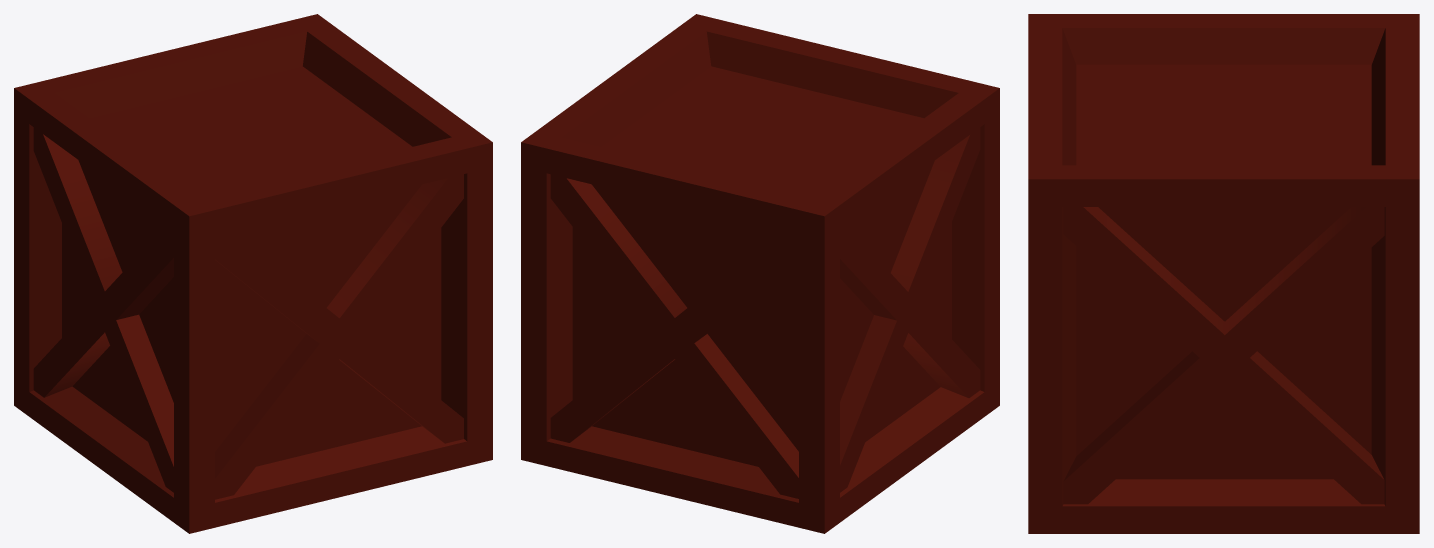
The model's file is crate-01.fbx.
3 renders of one model, left to right at view 1: azimuth 30°, elevation 25°; view 2: azimuth 150°, elevation 25°; view 3: azimuth 270°, elevation 25°, orthographic. The views are drawn at different scales.
Visible parts, largest first — view 1: crate-01; view 2: crate-01; view 3: crate-01.
Boxes of the visible parts, bbox=[...] form: crate-01: bbox=[14, 14, 492, 533]; crate-01: bbox=[521, 14, 999, 533]; crate-01: bbox=[1028, 14, 1419, 533].
Size of the model in its own units: 76.36 by 76.36 by 76.36.
